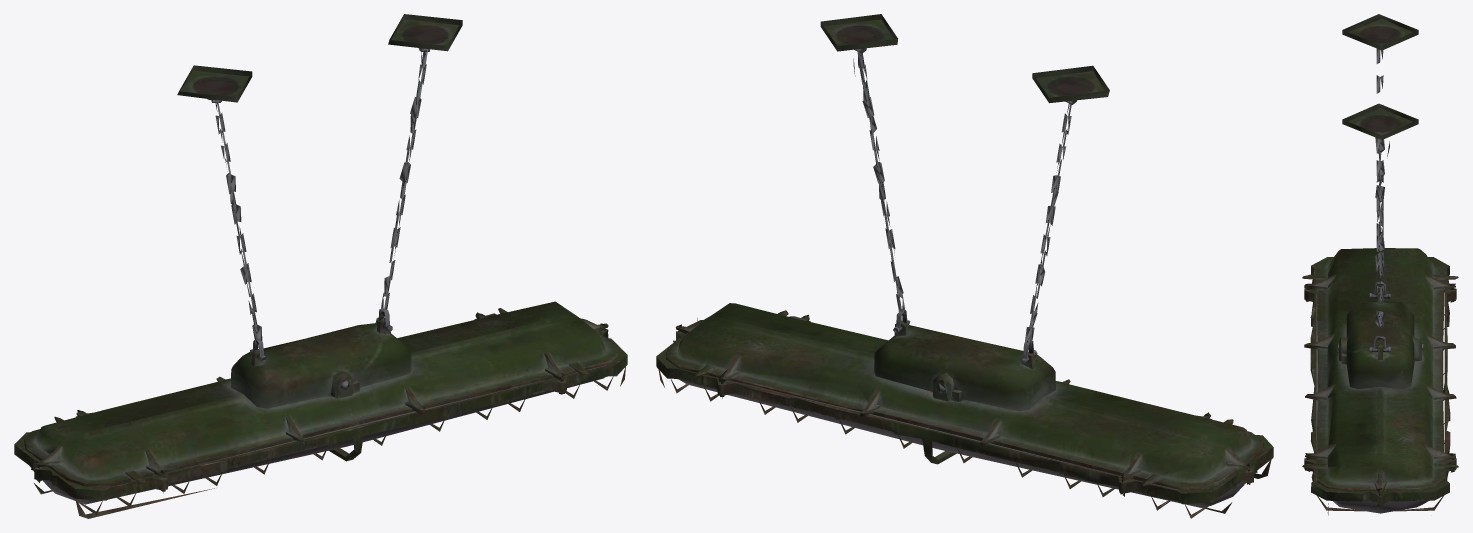
The model's file is caged_hanging_light.glb.
3 renders of one model, left to right at view 1: azimuth 30°, elevation 25°; view 2: azimuth 150°, elevation 25°; view 3: azimuth 270°, elevation 25°, orthographic. The views are drawn at different scales.
Visible parts, largest first — view 1: caged_hanging_light; view 2: caged_hanging_light; view 3: caged_hanging_light.
Boxes of the visible parts, box(x1,y1,x2,y2) form: caged_hanging_light: box(14, 14, 627, 518); caged_hanging_light: box(656, 14, 1273, 518); caged_hanging_light: box(1302, 14, 1458, 515).
Bounding box in the file's own units: 1.16 × 0.7501 × 0.3149.
1 material, 1 textured.
